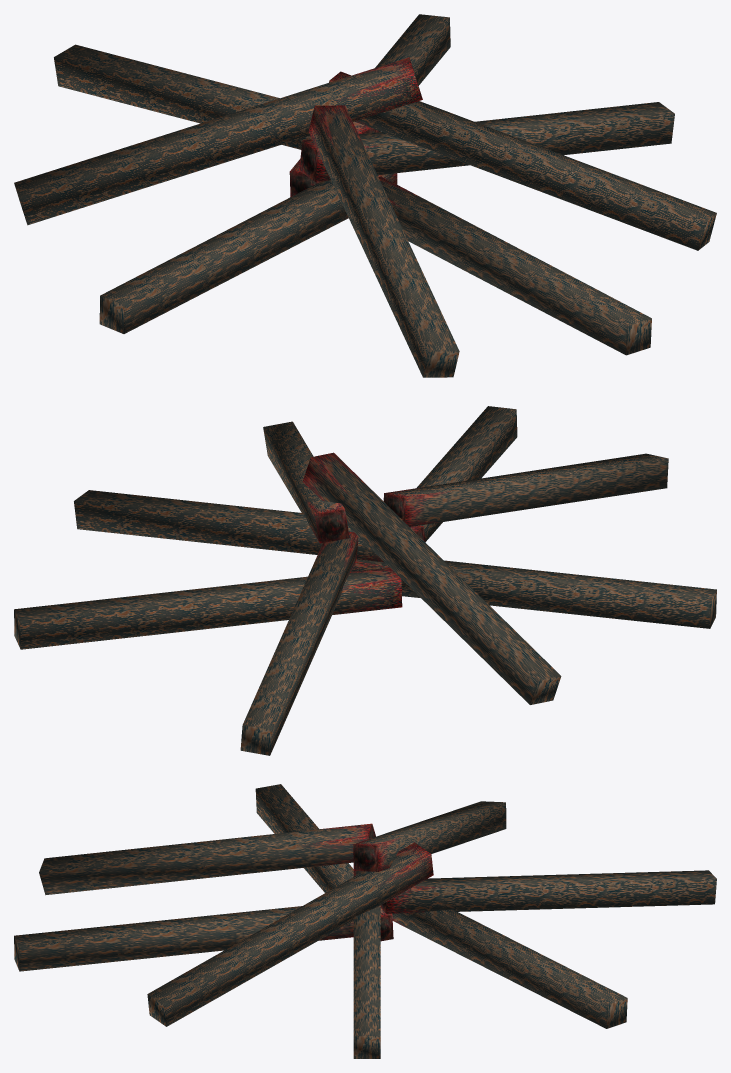
The model's file is Campfire.fbx.
3 renders of one model, top to bottom at view 1: azimuth 30°, elevation 25°; view 2: azimuth 150°, elevation 25°; view 3: azimuth 270°, elevation 25°, orthographic. The views are drawn at different scales.
Visible parts, largest first — view 1: Campfire; view 2: Campfire; view 3: Campfire.
Boxes of the visible parts, x1=… form: Campfire: x1=14, y1=14, x2=716, y2=377; Campfire: x1=14, y1=406, x2=716, y2=755; Campfire: x1=14, y1=784, x2=716, y2=1058.
Bounding box in the file's own units: 155 × 33.28 × 183.
Materials: 1 (1 with a texture image).
